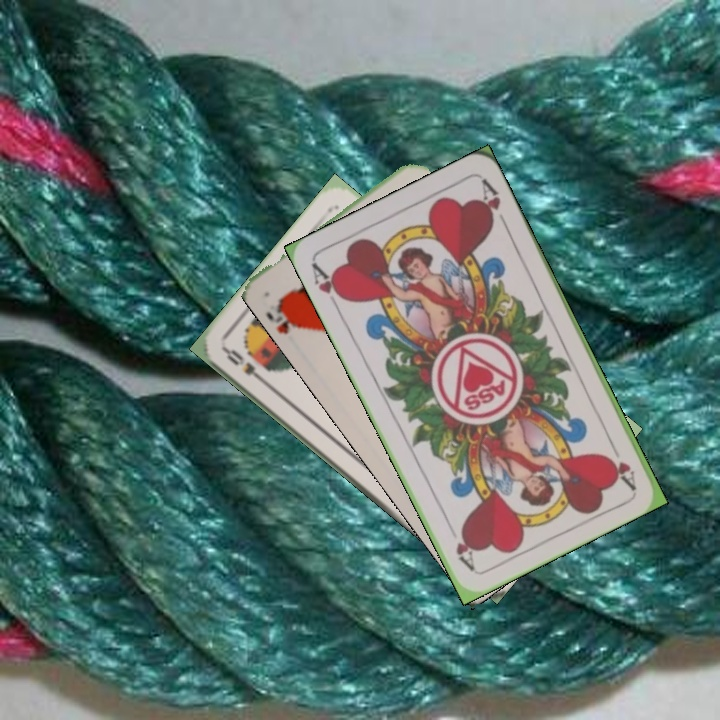HA: (307, 259, 350, 314), (604, 436, 639, 492)
HO: (263, 293, 307, 337)
SO: (220, 344, 270, 387)
